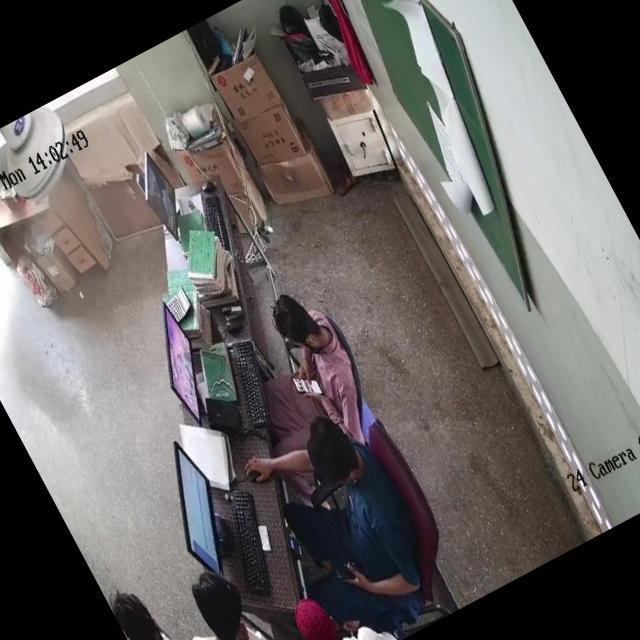person: (262, 404, 436, 614), (230, 290, 386, 467), (104, 564, 246, 640), (174, 565, 309, 640), (286, 574, 392, 640)
